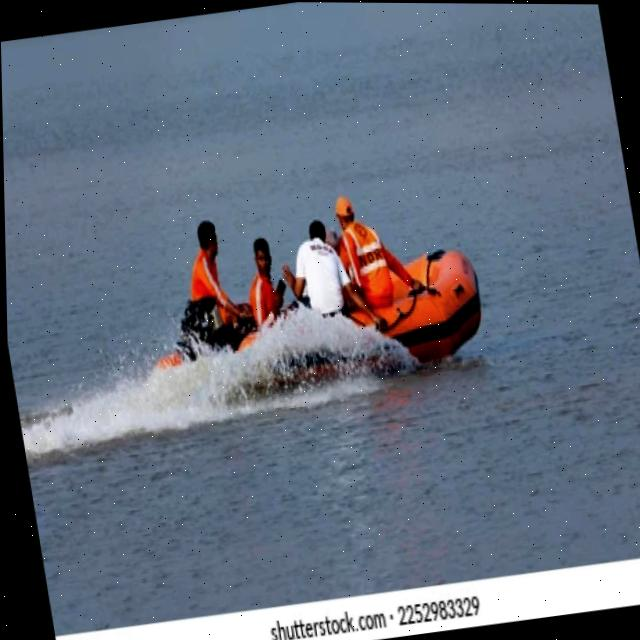civilian: (274, 205, 391, 348)
rescuer: (323, 183, 429, 313), (171, 212, 253, 332), (232, 224, 296, 338)
